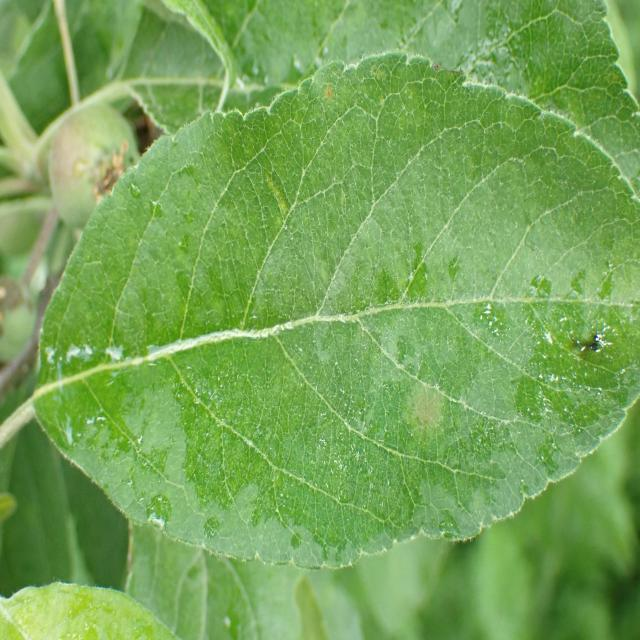scab: (123, 59, 545, 463)
